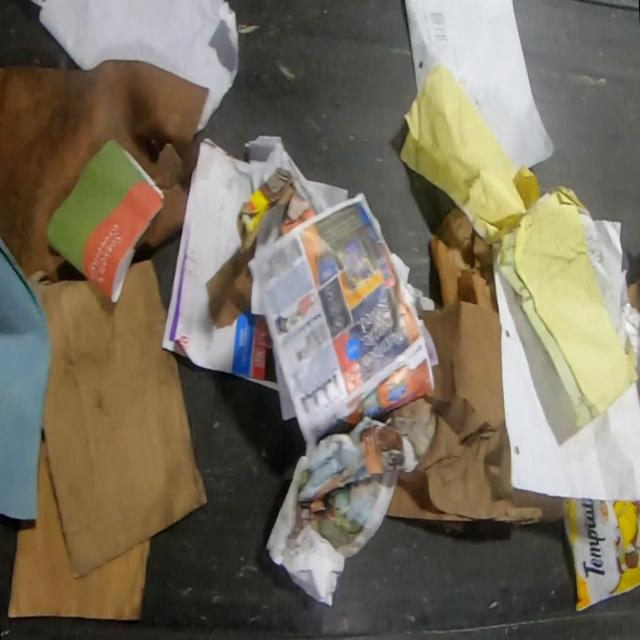cardboard: (25, 257, 210, 579), (6, 426, 153, 622), (428, 205, 498, 314), (237, 166, 294, 255), (385, 470, 477, 522), (491, 486, 565, 526), (278, 185, 316, 236), (626, 277, 640, 313)
soft_plastic: (563, 496, 640, 614)
